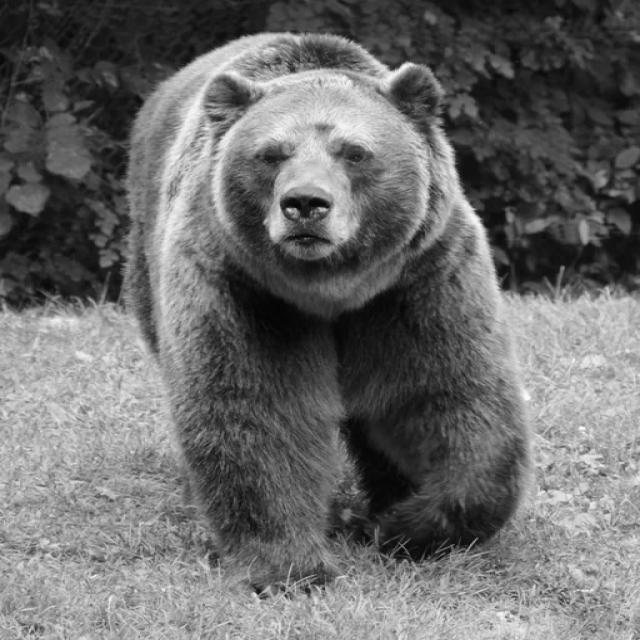Animal: (119, 28, 528, 598)
